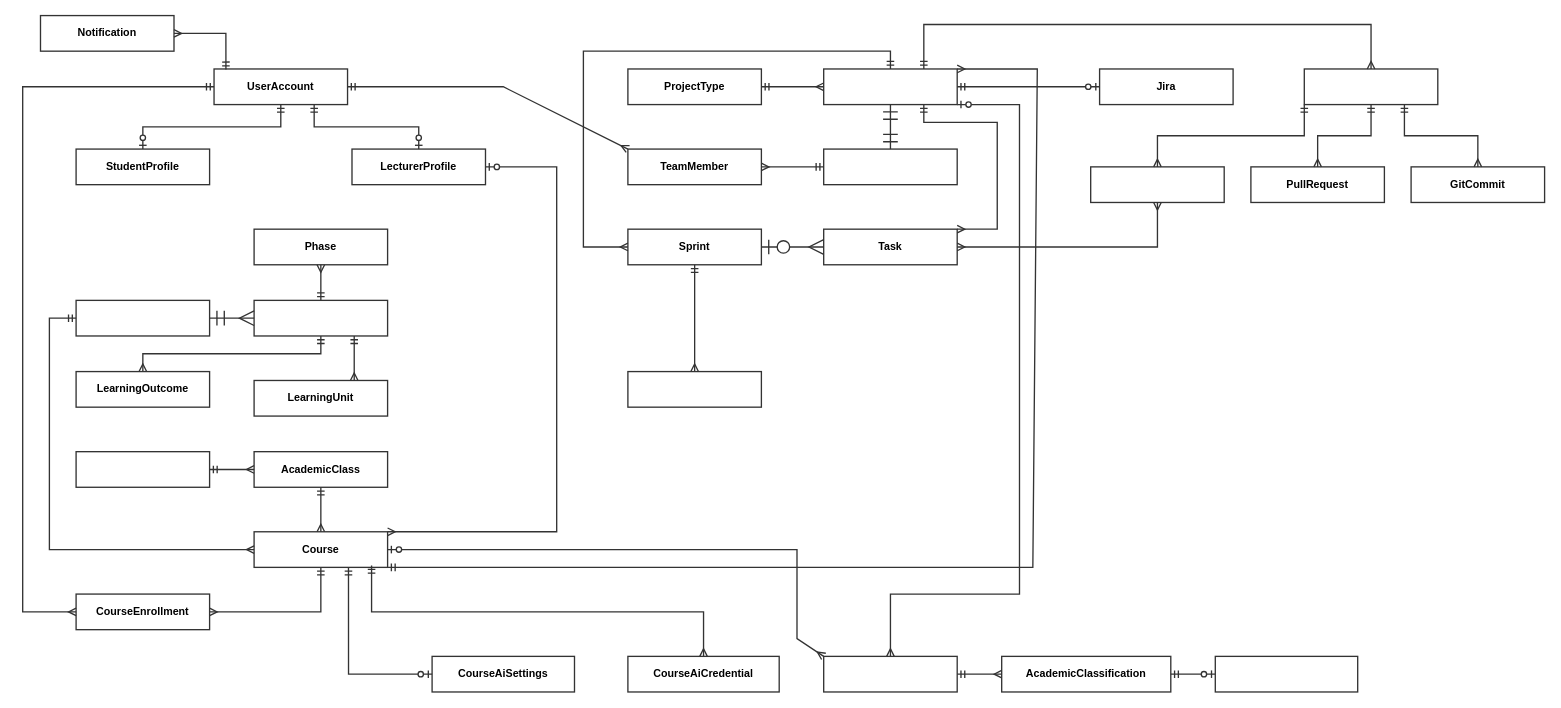
This 1561x708 diagram has some shape labels left out. The shapes that lost their labels are listed below. From the top down, each one's centre as x and y in pixels, then its label:
At [890,86]: "Project".
At [1370,86]: "GitRepository".
At [890,166]: "Team".
At [1157,184]: "GitIssue".
At [142,317]: "Subject".
At [320,317]: "Syllabus".
At [694,389]: "PeerReview".
At [142,469]: "Semester".
At [890,673]: "AiAnalysisRun".
At [1286,673]: "AcademicReview".
